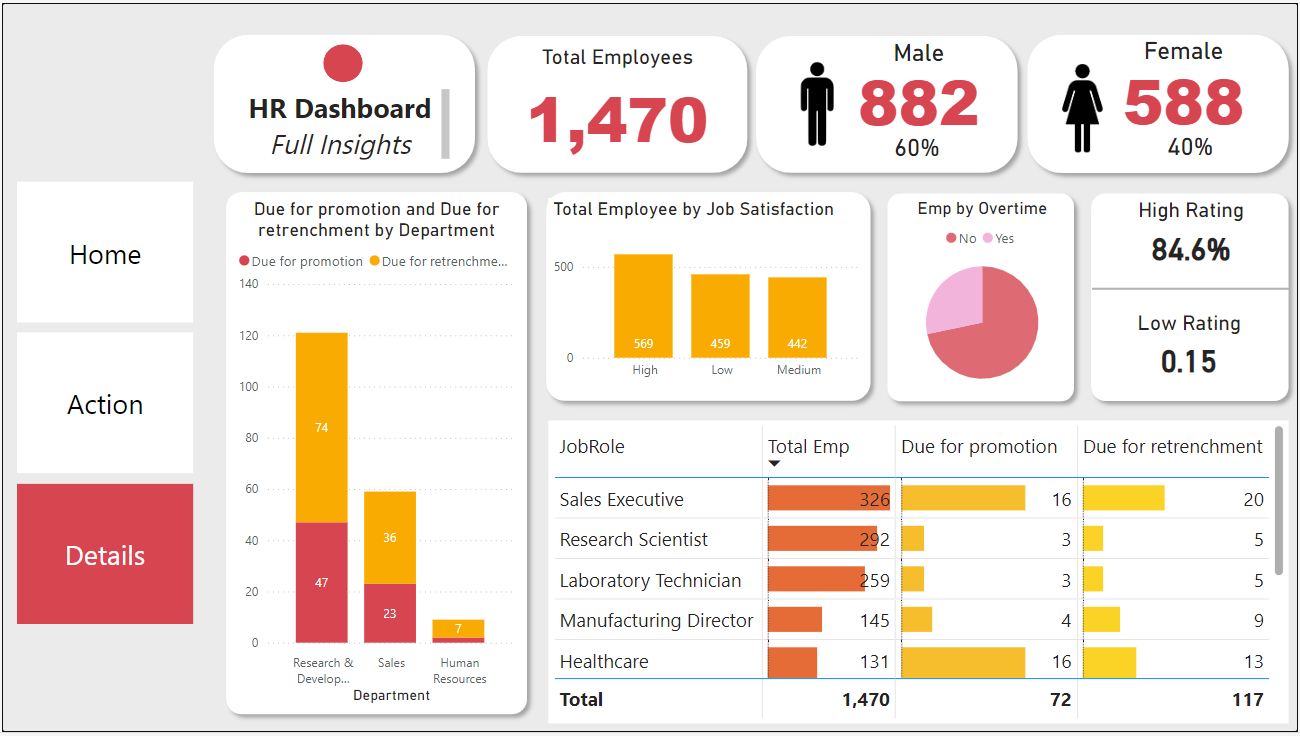

This screenshot's page, from the dashboard's own definition file:
{"tool":"powerbi","page":{"name":"Details","canvas":[1280,720],"ordinal":2},"visuals":[{"type":"shape","box":[199.6,21.7,276.2,154.7],"z":1000},{"type":"textbox","box":[228.4,80.7,218.5,79.4],"z":7000},{"type":"shape","box":[470,23.1,274.7,153.3],"z":8000},{"type":"card","title":"Total Employees","fields":{"Values":["All Measures.Total Emp"]},"box":[494.5,40.5,225.6,118.6],"z":9000},{"type":"shape","box":[316.7,40.5,39,37.6],"z":10000},{"type":"shape","box":[736,23.1,276.2,153.3],"z":11000},{"type":"card","title":"Male","fields":{"Values":["All Measures.Male"]},"box":[830,34.7,151.8,92.5],"z":12000},{"type":"shape","box":[1003.5,21.7,276.2,154.7],"z":13000},{"type":"card","fields":{"Values":["All Measures.Male %"]},"box":[866.2,122.9,73.7,36.2],"z":14000},{"type":"image","box":[1040.2,55.9,53.4,96.8],"z":15000},{"type":"card","title":"Female","fields":{"Values":["All Measures.Female"]},"box":[1093.2,33.3,148.9,94],"z":16000},{"type":"card","fields":{"Values":["All Measures.Female %"]},"box":[1129.3,121.5,88.2,40.5],"z":17000},{"type":"image","box":[769.3,33.3,72.3,133],"z":18000},{"type":"shape","box":[212.6,177.9,315.2,533.6],"z":19000},{"type":"columnChart","fields":{"Y":["All Measures.Due for promotion","All Measures.Due for retrenchment"],"Category":["HR Analytics Data.Department"]},"box":[228.4,192.4,283,504],"z":20000},{"type":"shape","box":[527.8,177.9,338.4,224.1],"z":21000},{"type":"clusteredColumnChart","title":"Total Employee by Job Satisfaction","fields":{"Y":["CountNonNull(HR employee data.EmployeeNumber)"],"Category":["HR Analytics Data.Job satisfaction"]},"box":[539.4,192.3,313.8,188],"z":22000},{"type":"shape","box":[865.2,178.7,202.3,223.4],"z":23000},{"type":"pieChart","title":"Emp by Overtime","fields":{"Category":["HR Analytics Data.OverTime"],"Y":["CountNonNull(HR Analytics Data.EmployeeNumber)"]},"box":[882.6,192.4,171.3,197.4],"z":24000},{"type":"shape","box":[1067,179,213,223],"z":25000},{"type":"card","title":"High Rating","fields":{"Values":["All Measures.% High emp rating"]},"box":[1104.7,192.4,139,74.5],"z":26000},{"type":"card","title":"Low Rating","fields":{"Values":["All Measures.% Low emp rating"]},"box":[1103.5,304.1,137.8,73.2],"z":27000},{"type":"shape","box":[1076.2,260.7,194.9,43.4],"z":28000},{"type":"tableEx","fields":{"Values":["HR Analytics Data.JobRole","All Measures.Total Emp","All Measures.Due for promotion","All Measures.Due for retrenchment"]},"box":[540,412.1,731.1,299.2],"z":29000},{"type":"pageNavigator","box":[14.7,176.1,174.9,439],"z":29001}]}

Visuals, with their boxes in screenshot pixels (x1, y1, x2, y2), scaled from the page's 1280x720 canvas onto the 1300x736 screenshot:
shape: (left=203, top=22, right=483, bottom=180)
textbox: (left=232, top=82, right=454, bottom=164)
shape: (left=477, top=24, right=756, bottom=180)
"Total Employees" card: (left=502, top=41, right=731, bottom=163)
shape: (left=322, top=41, right=361, bottom=80)
shape: (left=748, top=24, right=1028, bottom=180)
"Male" card: (left=843, top=35, right=997, bottom=130)
shape: (left=1019, top=22, right=1299, bottom=180)
card - All Measures.Male %: (left=880, top=126, right=955, bottom=163)
image: (left=1056, top=57, right=1111, bottom=156)
"Female" card: (left=1110, top=34, right=1262, bottom=130)
card - All Measures.Female %: (left=1147, top=124, right=1237, bottom=166)
image: (left=781, top=34, right=855, bottom=170)
shape: (left=216, top=182, right=536, bottom=727)
columnChart - All Measures.Due for promotion x All Measures.Due for retrenchment: (left=232, top=197, right=519, bottom=712)
shape: (left=536, top=182, right=880, bottom=411)
"Total Employee by Job Satisfaction" clusteredColumnChart: (left=548, top=197, right=867, bottom=389)
shape: (left=879, top=183, right=1084, bottom=411)
"Emp by Overtime" pieChart: (left=896, top=197, right=1070, bottom=398)
shape: (left=1084, top=183, right=1299, bottom=411)
"High Rating" card: (left=1122, top=197, right=1263, bottom=273)
"Low Rating" card: (left=1121, top=311, right=1261, bottom=386)
shape: (left=1093, top=266, right=1291, bottom=311)
tableEx - HR Analytics Data.JobRole x All Measures.Total Emp: (left=548, top=421, right=1291, bottom=727)
pageNavigator: (left=15, top=180, right=193, bottom=629)
